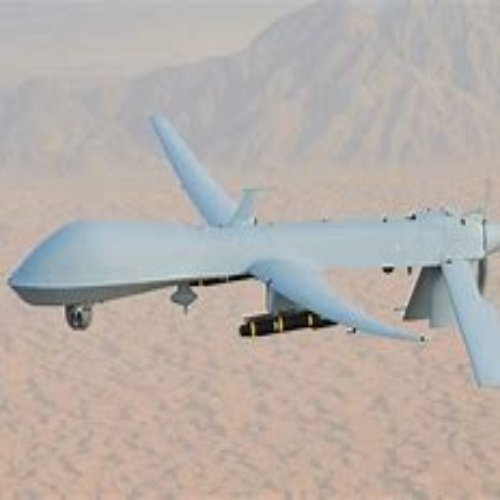uav116: (4, 112, 500, 392)
